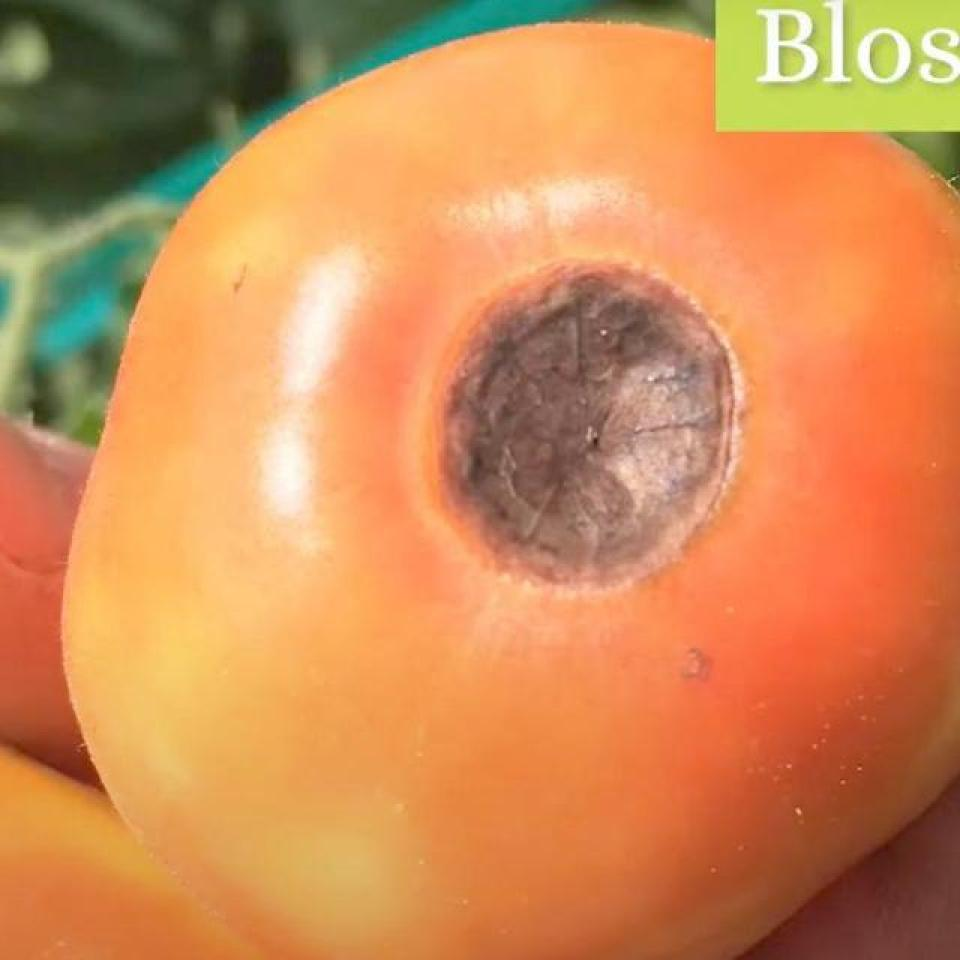Blossom_end_rot: (415, 251, 748, 609)
